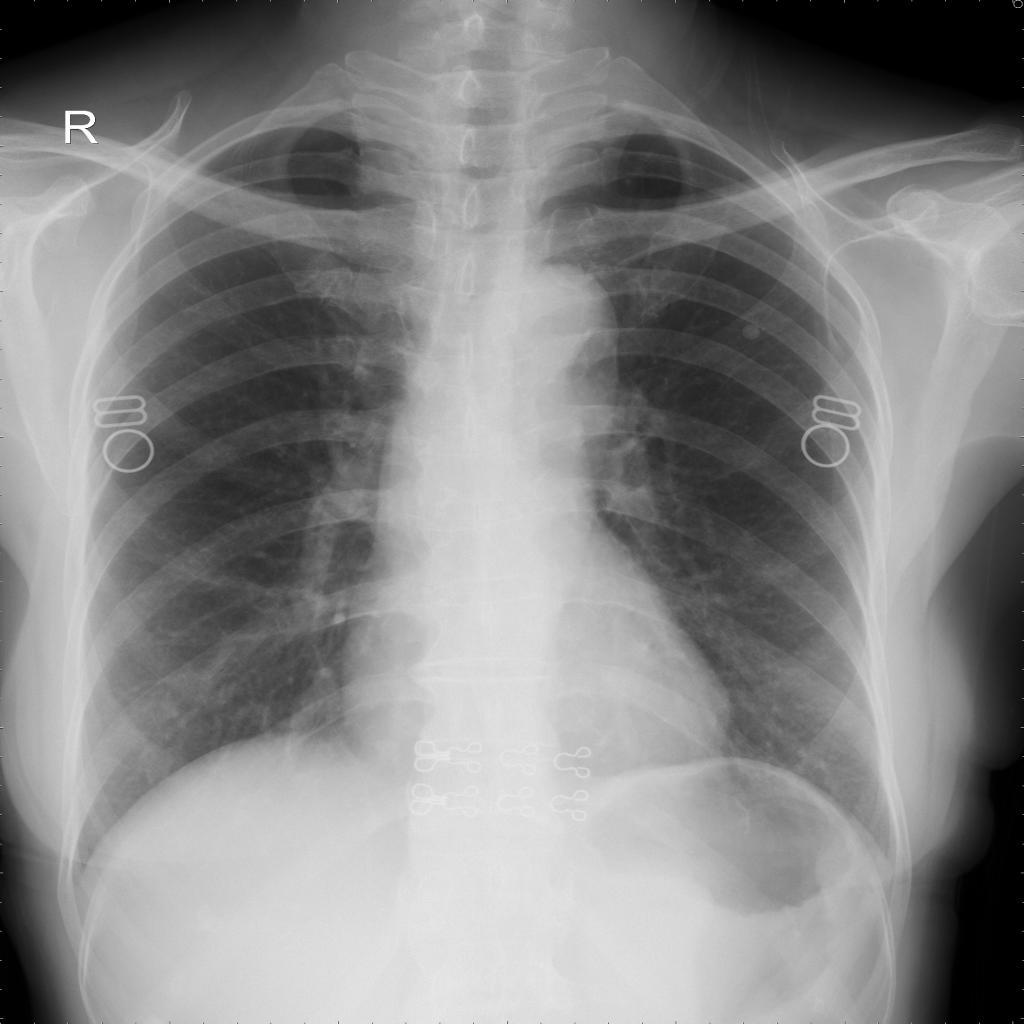Nodule: (742, 324, 761, 341)
